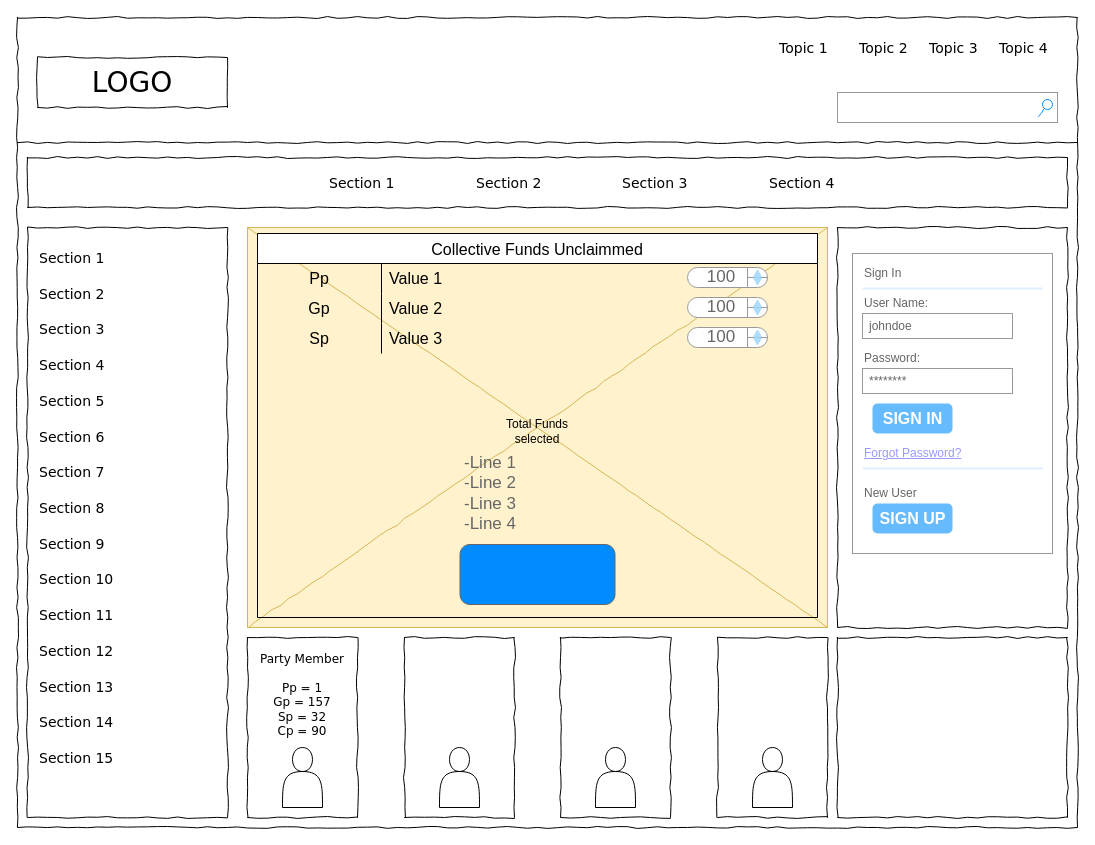
The diagram is 1095 pixels wide and 845 high, and some of its shapes have lost their labels. The box of each missing label's shape, as (x1, y1, x2, y2) in pixels:
External Links: (836, 636, 1068, 818)
Search: (836, 92, 1058, 122)
Withdraw: (459, 544, 615, 604)
